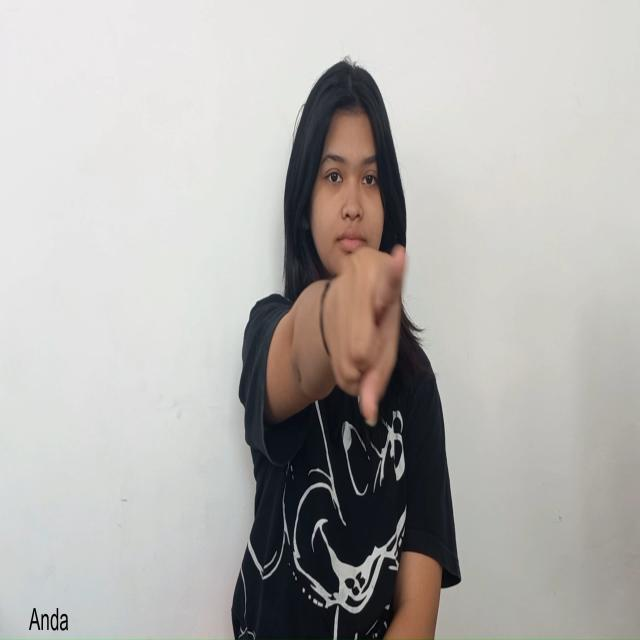Anda -BISINDO-: (313, 242, 407, 429)
